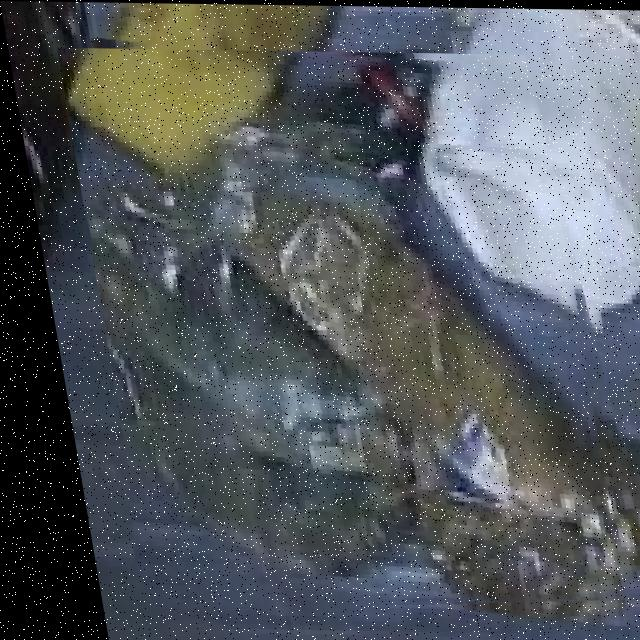litter: (55, 47, 640, 615)
